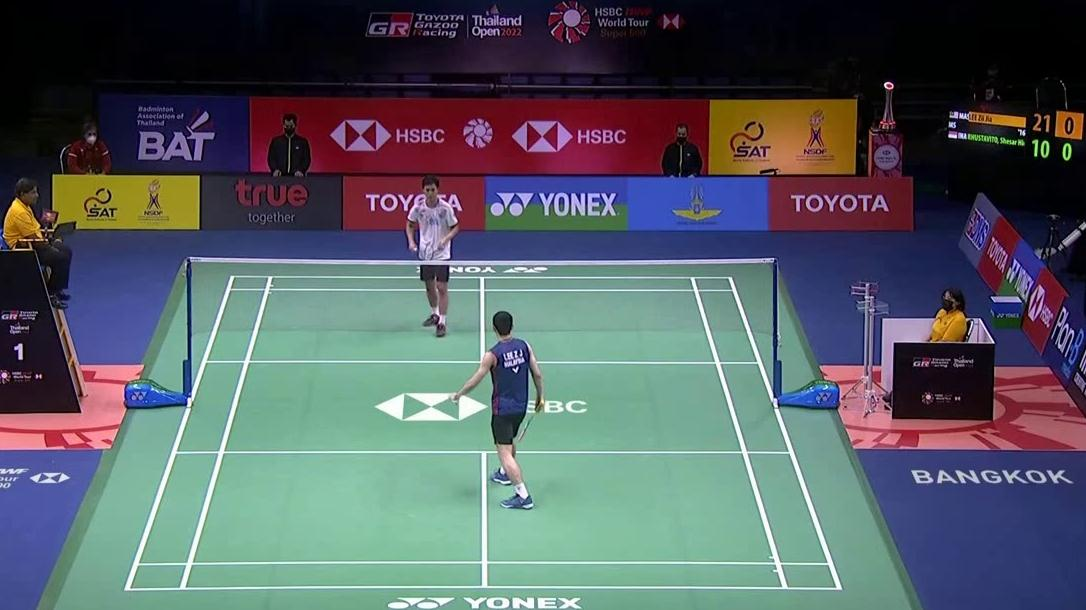racket: (515, 399, 546, 445), (409, 244, 434, 262)
shuttle: (449, 392, 459, 405)
